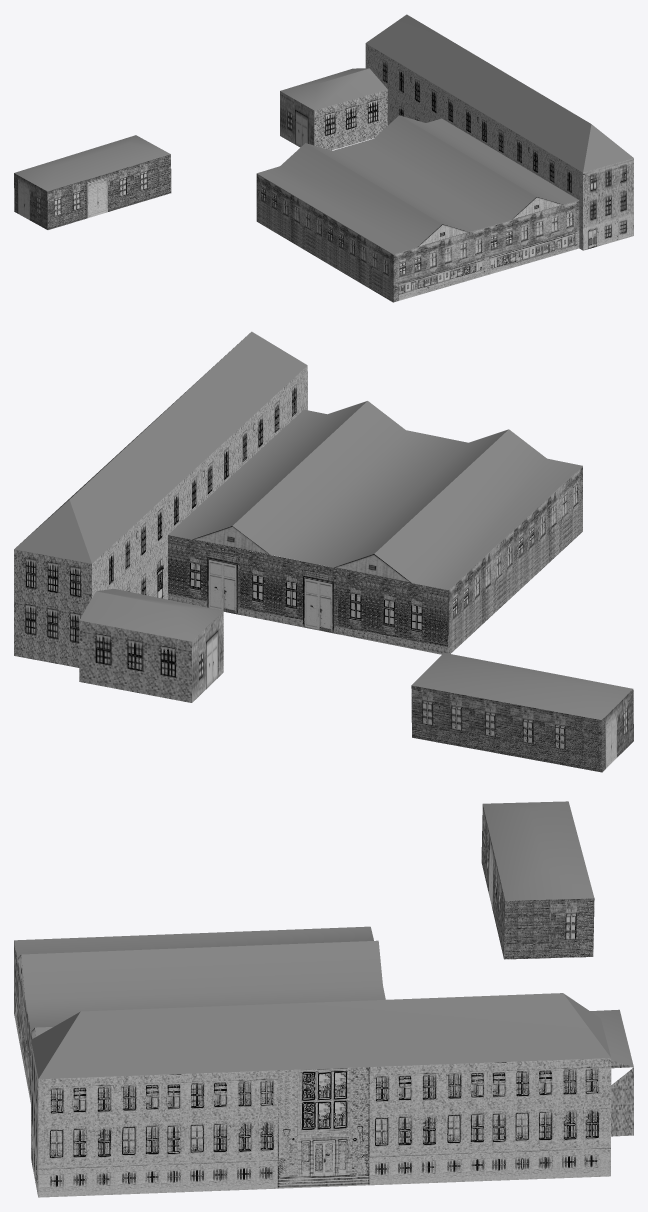
File: Jante-Bau.gltf
3 renders of one model, top to bottom at view 1: azimuth 30°, elevation 25°; view 2: azimuth 150°, elevation 25°; view 3: azimuth 270°, elevation 25°, orthographic. The views are drawn at different scales.
Visible parts, largest first — view 1: Hauptgebaeude.1; view 2: Hauptgebaeude.1; view 3: Hauptgebaeude.1.
Part boxes in pixels (left/top/right/bottom): Hauptgebaeude.1: left=14, top=14, right=633, bottom=302; Hauptgebaeude.1: left=14, top=331, right=633, bottom=772; Hauptgebaeude.1: left=14, top=801, right=633, bottom=1197.
Bounding box in the file's own units: 87.06 × 20.4 × 69.17.
19 materials, 18 textured.
